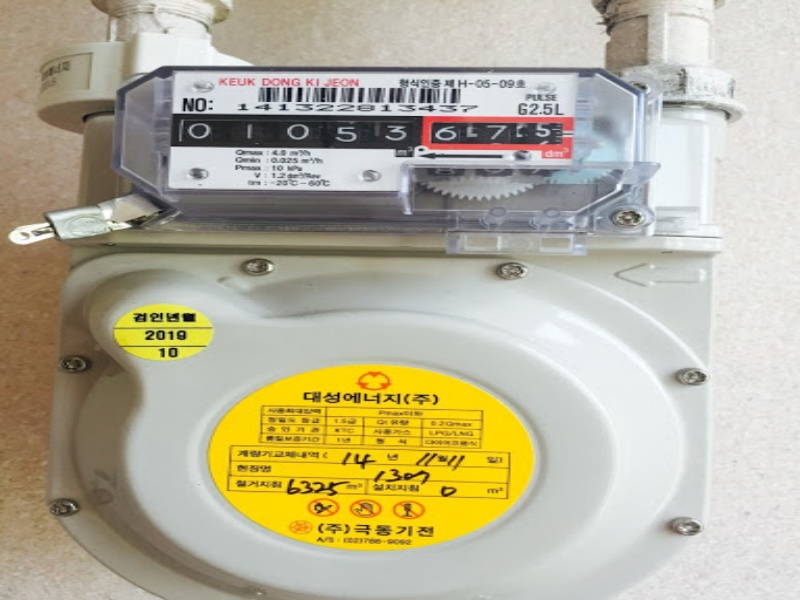meter: (108, 58, 668, 222)
